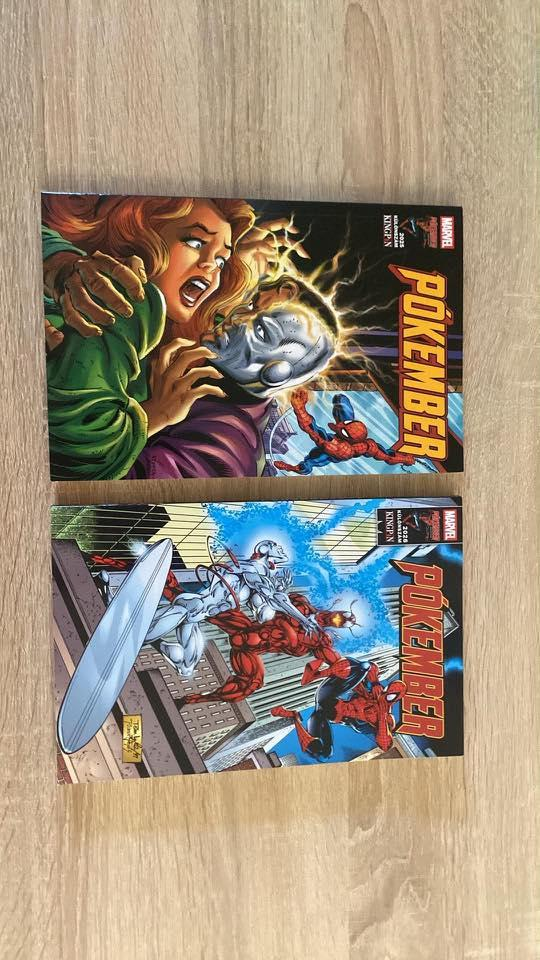comic: (42, 194, 462, 479), (50, 498, 467, 782)
